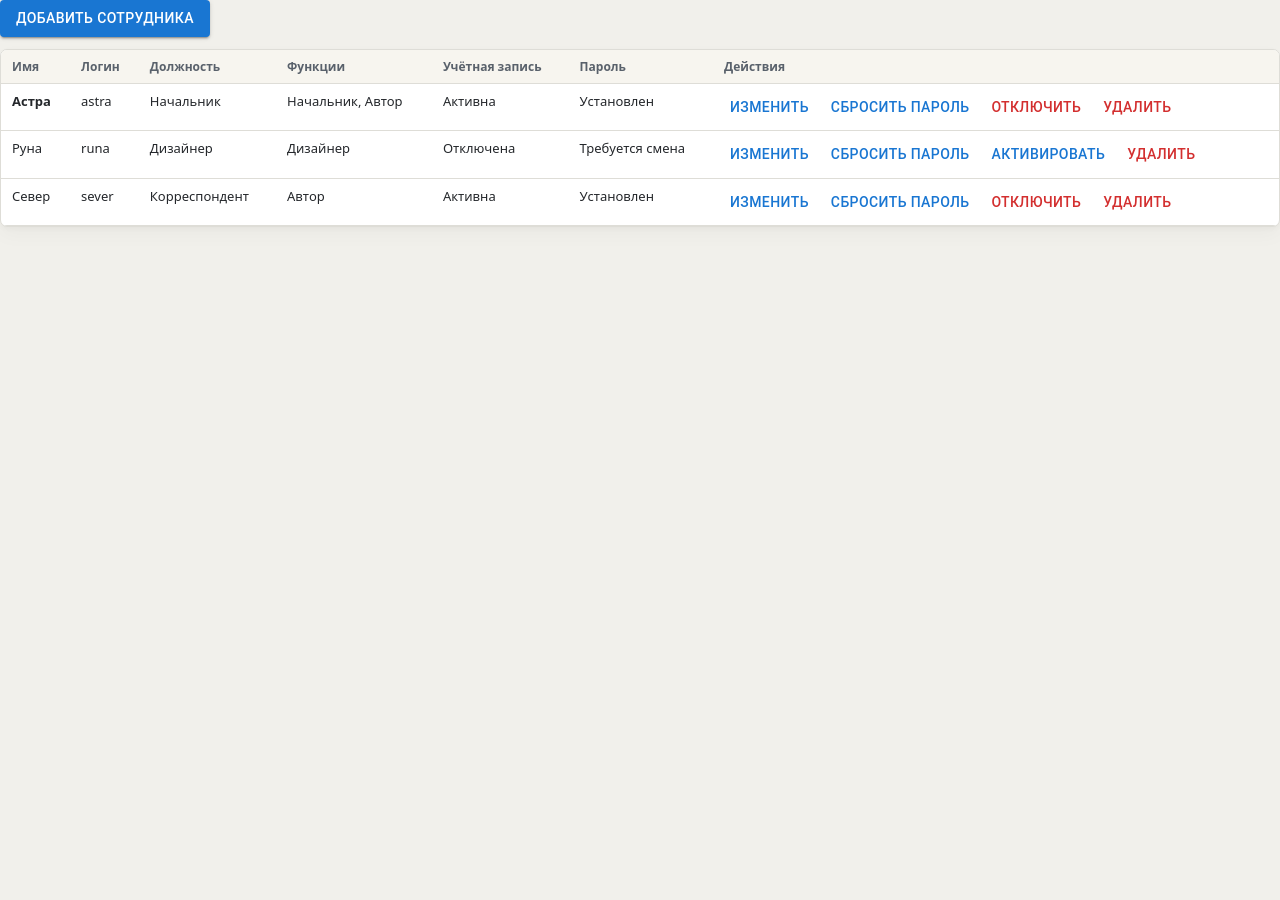
Scenario: AdminUsersManager › starts an accepted edit refetch only after closing its dialog
Expected: the cell "Астра" is shown, [1,83,70,131]
Click the button with aria-label "Изменить Астра" at (769, 107), box [724,92,815,122]
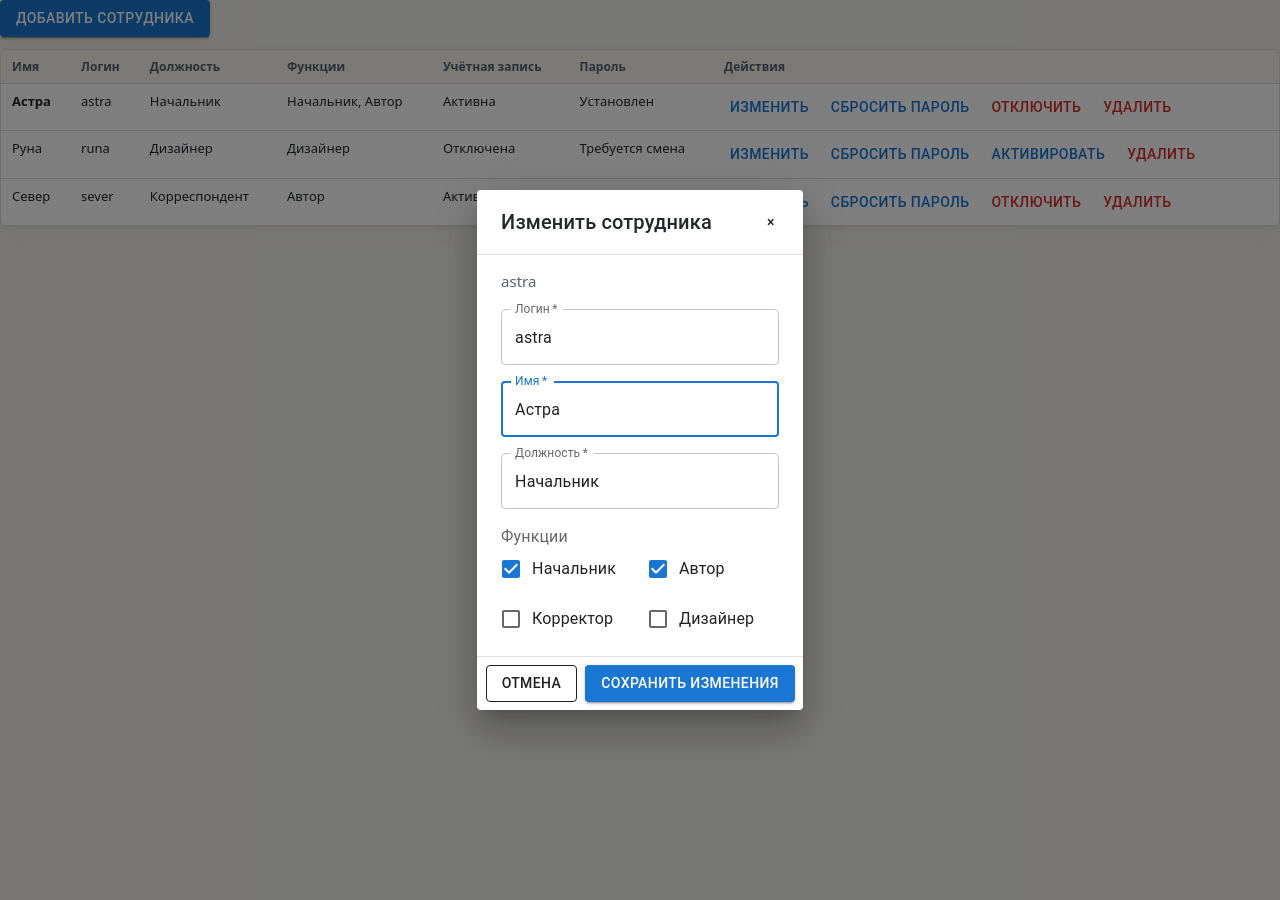
Click the button "Сохранить изменения" at (690, 683), box [585,665,795,702]
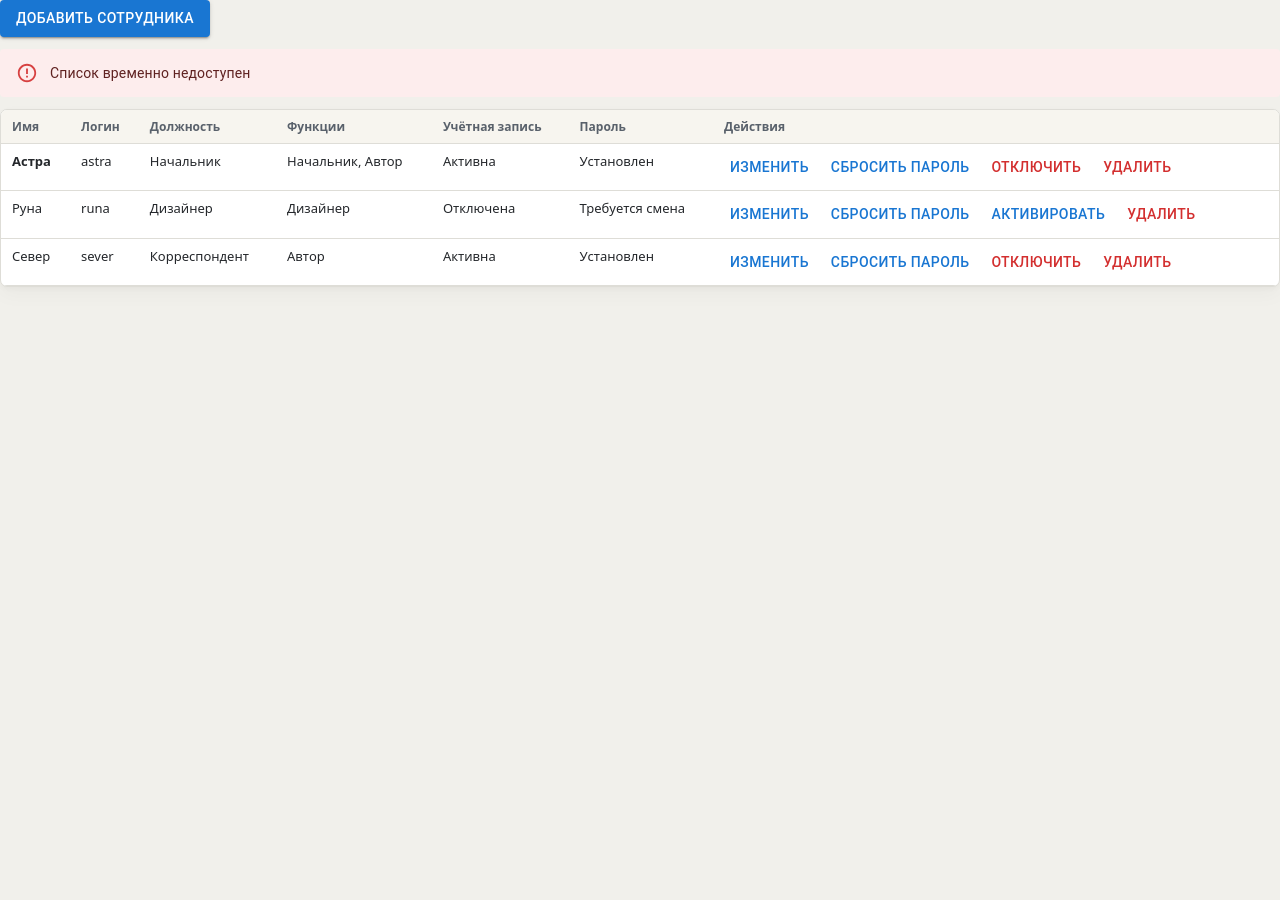
Now the message reads "Список временно недоступен", box [50,64,250,80]
Now the heading "Изменить сотрудника" is gone
